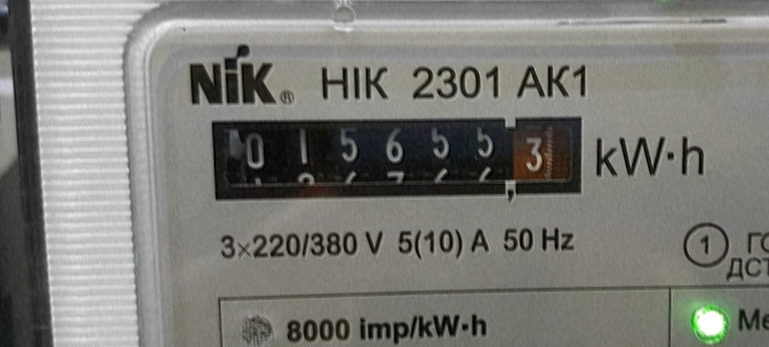0: (242, 129, 268, 170)
1: (294, 127, 314, 166)
3: (524, 135, 544, 172)
5: (336, 127, 361, 163), (429, 127, 453, 159), (476, 126, 495, 158)
6: (383, 127, 407, 163)
screen: (198, 97, 598, 216)
